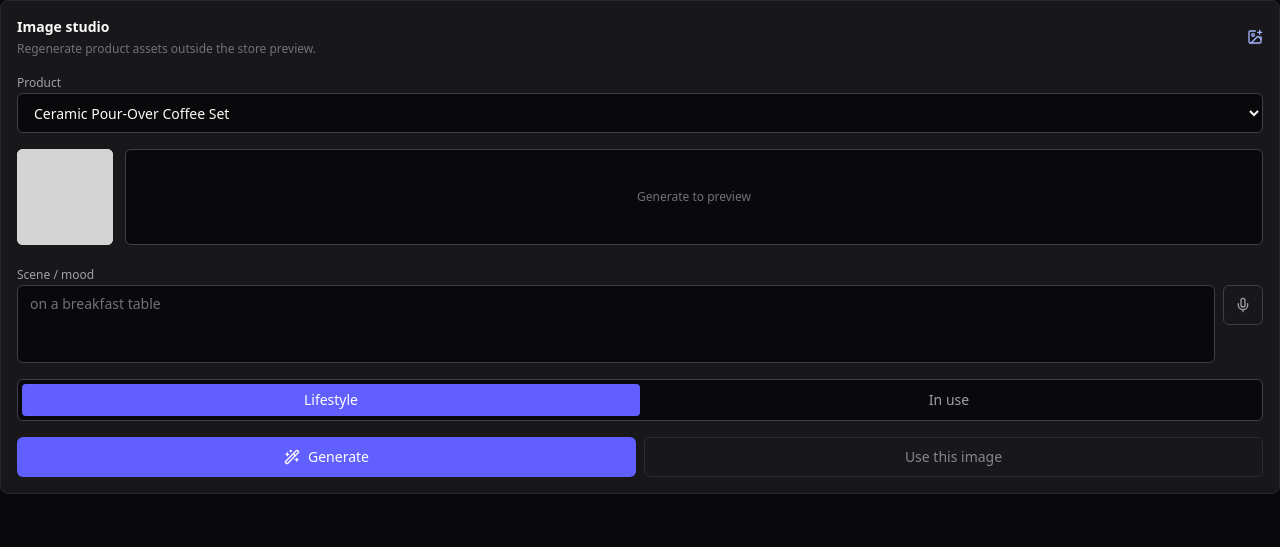
Test: ImageStudio › shows a friendly error for empty API responses
What coordinates should you click on to do the following:
click the button "Generate"
I would click on:
 (326, 457)
Its box is [17, 437, 636, 477].
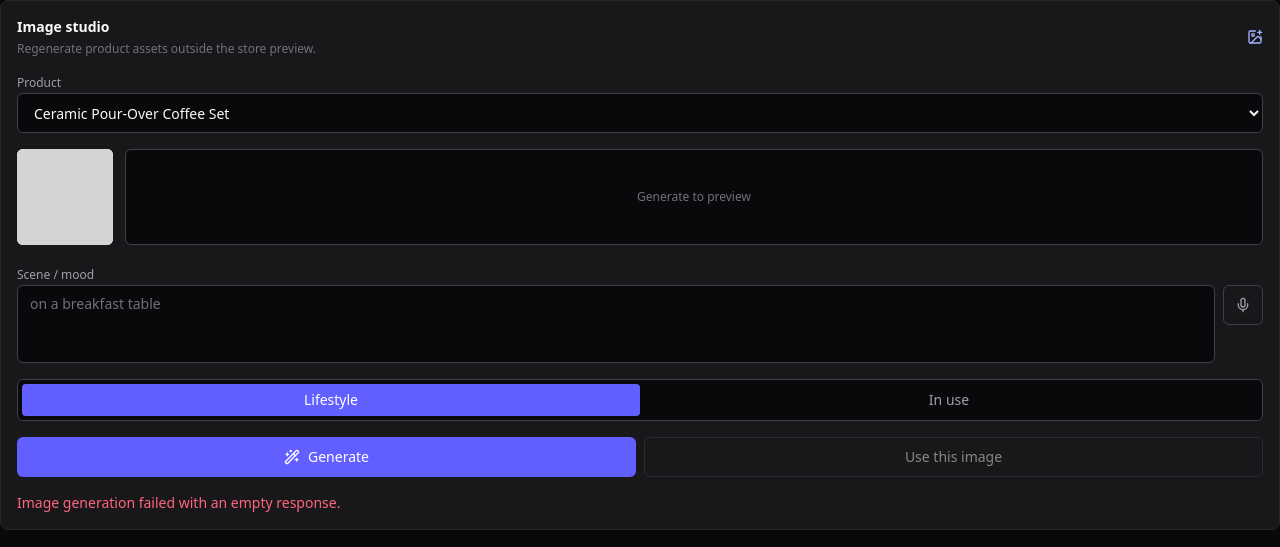
expect the text "Image generation failed with an empty response." is shown: met, box [17, 493, 340, 512]
